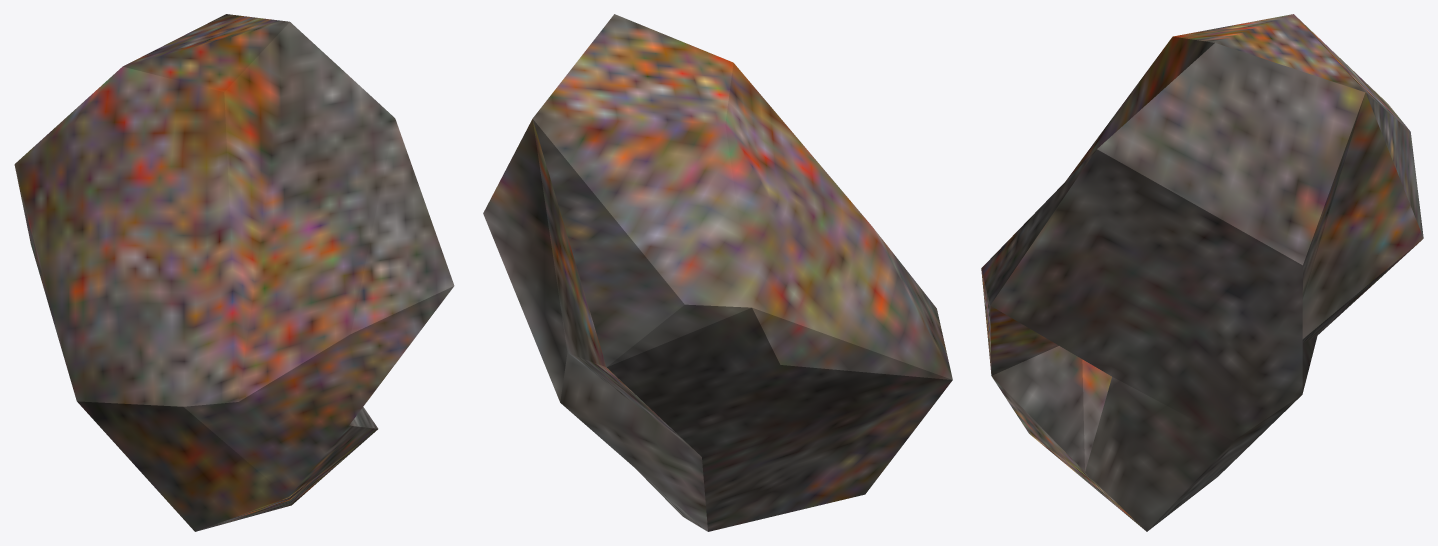
File: JAM_Rock_02.fbx
3 views of the same model, side by side, from view 1: azimuth 30°, elevation 25°; view 2: azimuth 150°, elevation 25°; view 3: azimuth 270°, elevation 25° (orthographic). The views are drawn at different scales.
Parts seen in each view (by area): view 1: PROPS_Rock_02; view 2: PROPS_Rock_02; view 3: PROPS_Rock_02.
Boxes of the visible parts, box(x1,y1,x2,y2) form: PROPS_Rock_02: box(14, 14, 454, 531); PROPS_Rock_02: box(483, 14, 952, 531); PROPS_Rock_02: box(981, 14, 1423, 531).
Bounding box in the file's own units: 1.45 × 1.91 × 1.52.
